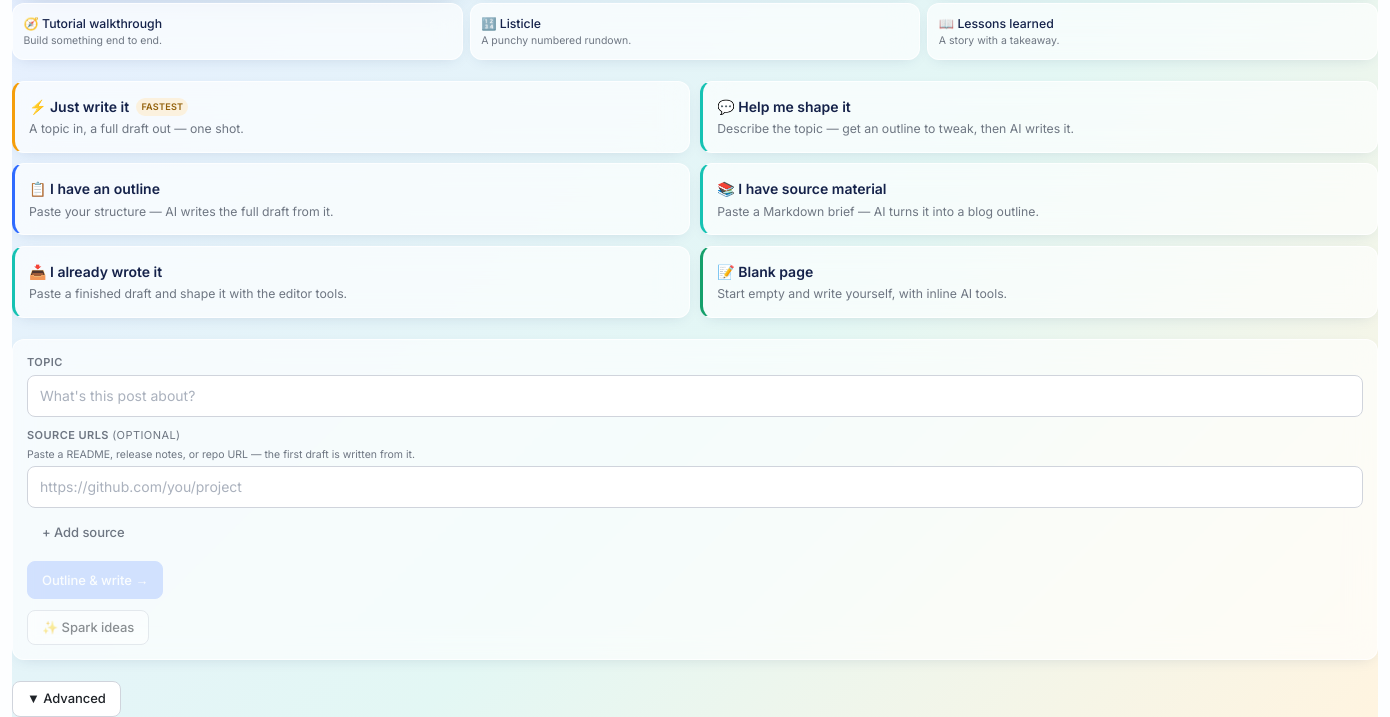
Test: ComposeStudio › keeps availability auto-pick when the server has no preference
This screenshot has width=1390, height=717.
(page scrolled)
Click the button "▼ Advanced": (66, 699) [12,681,121,716]
(page scrolled)
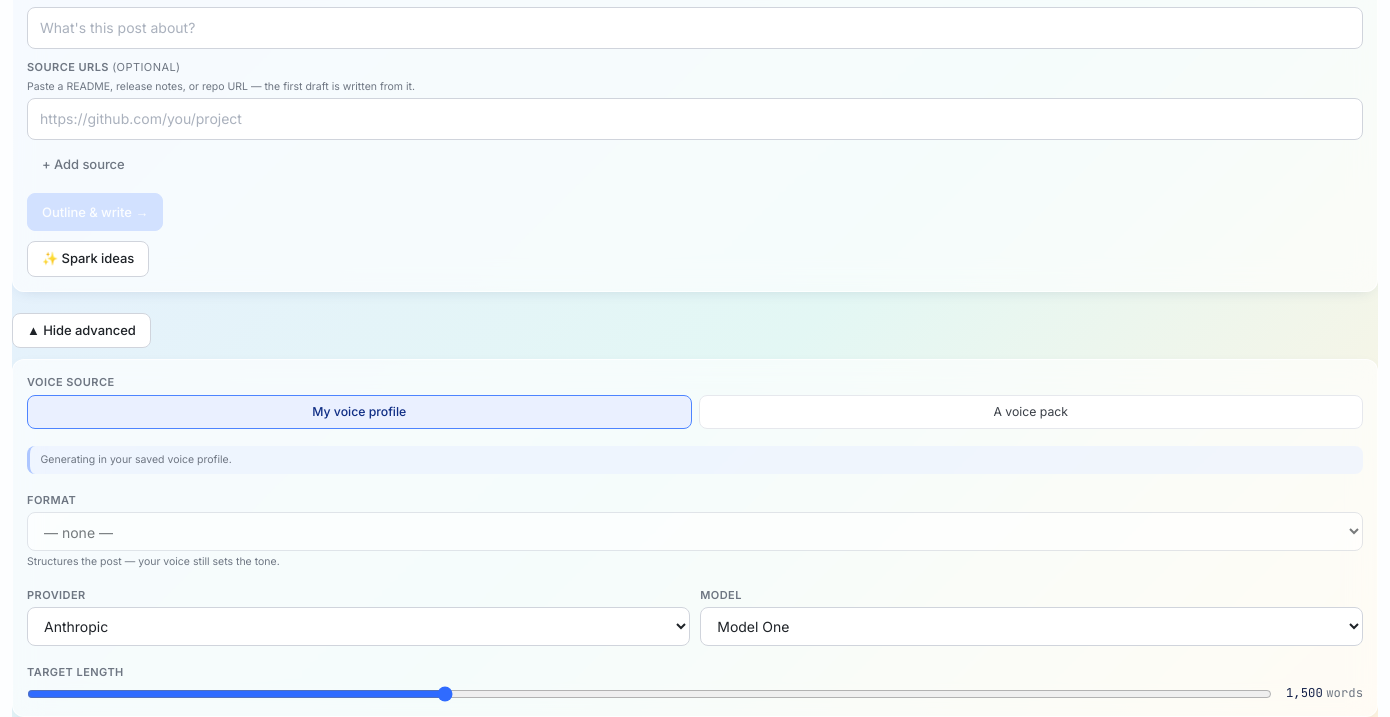
Expected: the dropdown labelled "Provider" shows "Anthropic", [27,607,690,646]
